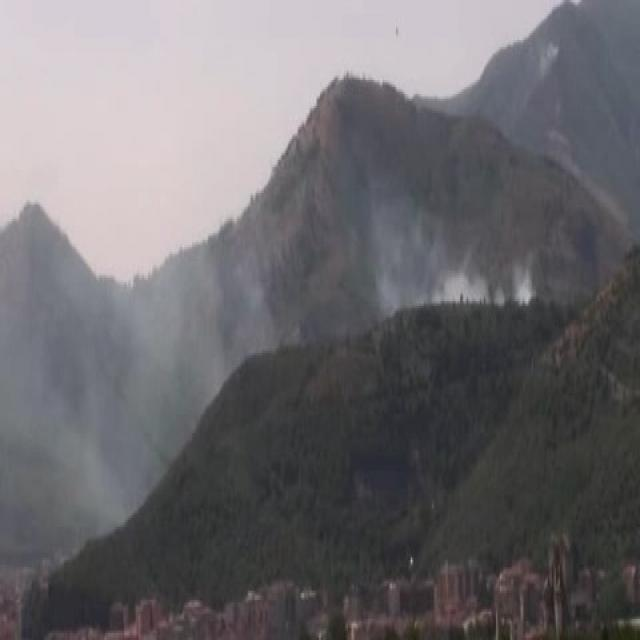smoke: (94, 267, 239, 421), (382, 248, 536, 308)
